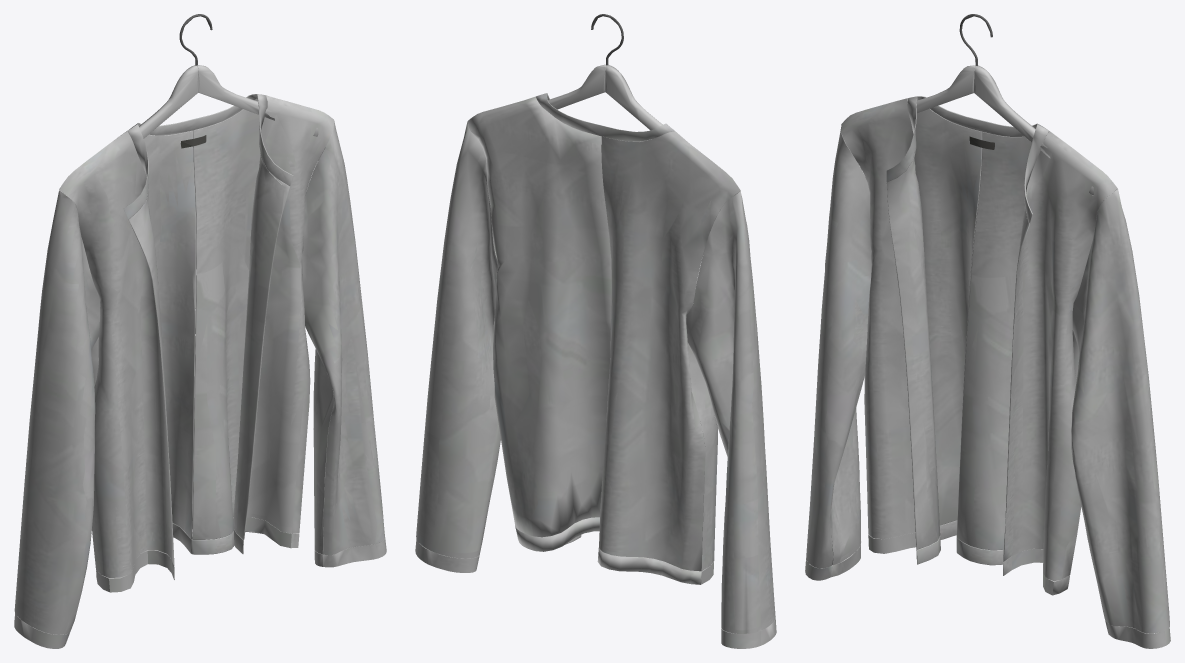
File: clothes06_sweater.glb
3 renders of one model, left to right at view 1: azimuth 30°, elevation 25°; view 2: azimuth 150°, elevation 25°; view 3: azimuth 330°, elevation 25°, orthographic.
Visible parts, largest first — view 1: clothes06_sweater_StaticMeshComponent0, clothes06_hanger3_StaticMeshComponent0; view 2: clothes06_sweater_StaticMeshComponent0, clothes06_hanger3_StaticMeshComponent0; view 3: clothes06_sweater_StaticMeshComponent0, clothes06_hanger3_StaticMeshComponent0.
Boxes of the visible parts, box(x1,y1,x2,y2) form: clothes06_sweater_StaticMeshComponent0: box(14, 94, 386, 648); clothes06_hanger3_StaticMeshComponent0: box(139, 14, 318, 138); clothes06_sweater_StaticMeshComponent0: box(415, 93, 776, 648); clothes06_hanger3_StaticMeshComponent0: box(548, 14, 662, 130); clothes06_sweater_StaticMeshComponent0: box(805, 96, 1170, 648); clothes06_hanger3_StaticMeshComponent0: box(916, 14, 1093, 195).
Size of the model in its own units: 0.516 by 0.8119 by 0.1135.
Materials: 4 (2 with a texture image).
